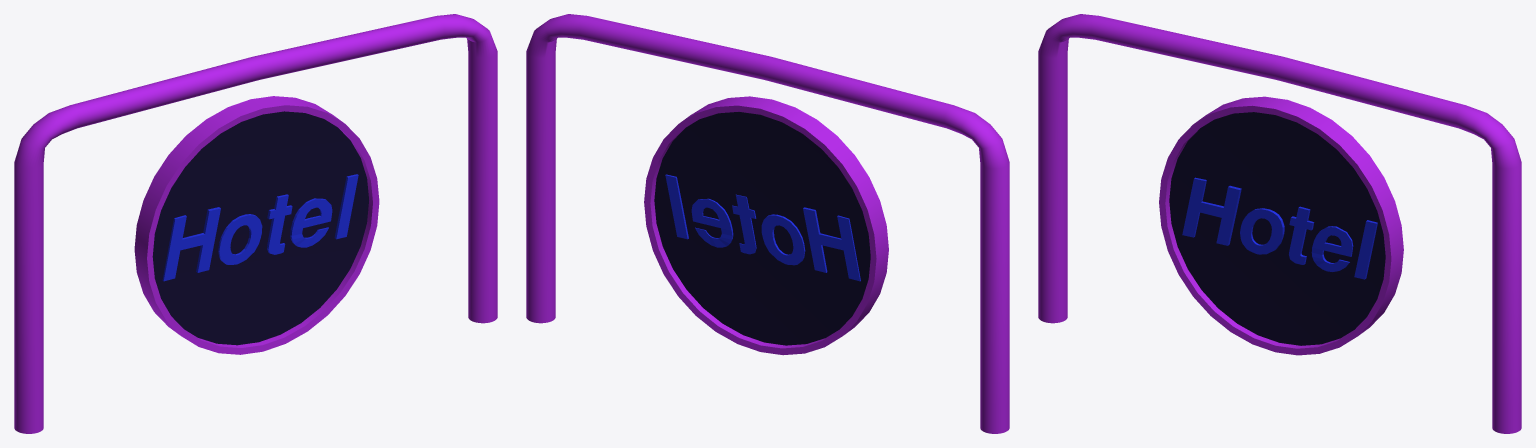
Rendered from HotelNeonSign.fbx.
The picture shows the model from 3 angles, left to right: view 1: azimuth 30°, elevation 25°; view 2: azimuth 150°, elevation 25°; view 3: azimuth 330°, elevation 25°; orthographic projection.
Visible parts, largest first — view 1: Cube; view 2: Cube; view 3: Cube.
Part boxes in pixels (left/top/right/bottom): Cube: left=14, top=14, right=497, bottom=433; Cube: left=526, top=14, right=1009, bottom=433; Cube: left=1038, top=14, right=1521, bottom=433.
Size of the model in its own units: 3.7 by 0.1971 by 2.32.
